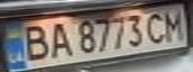3: (124, 11, 148, 47)
7: (93, 15, 115, 52), (109, 13, 130, 51)
8: (75, 17, 96, 54)
A: (45, 19, 72, 58)
B: (15, 21, 51, 62)
C: (142, 10, 172, 44)
M: (160, 9, 190, 43)
